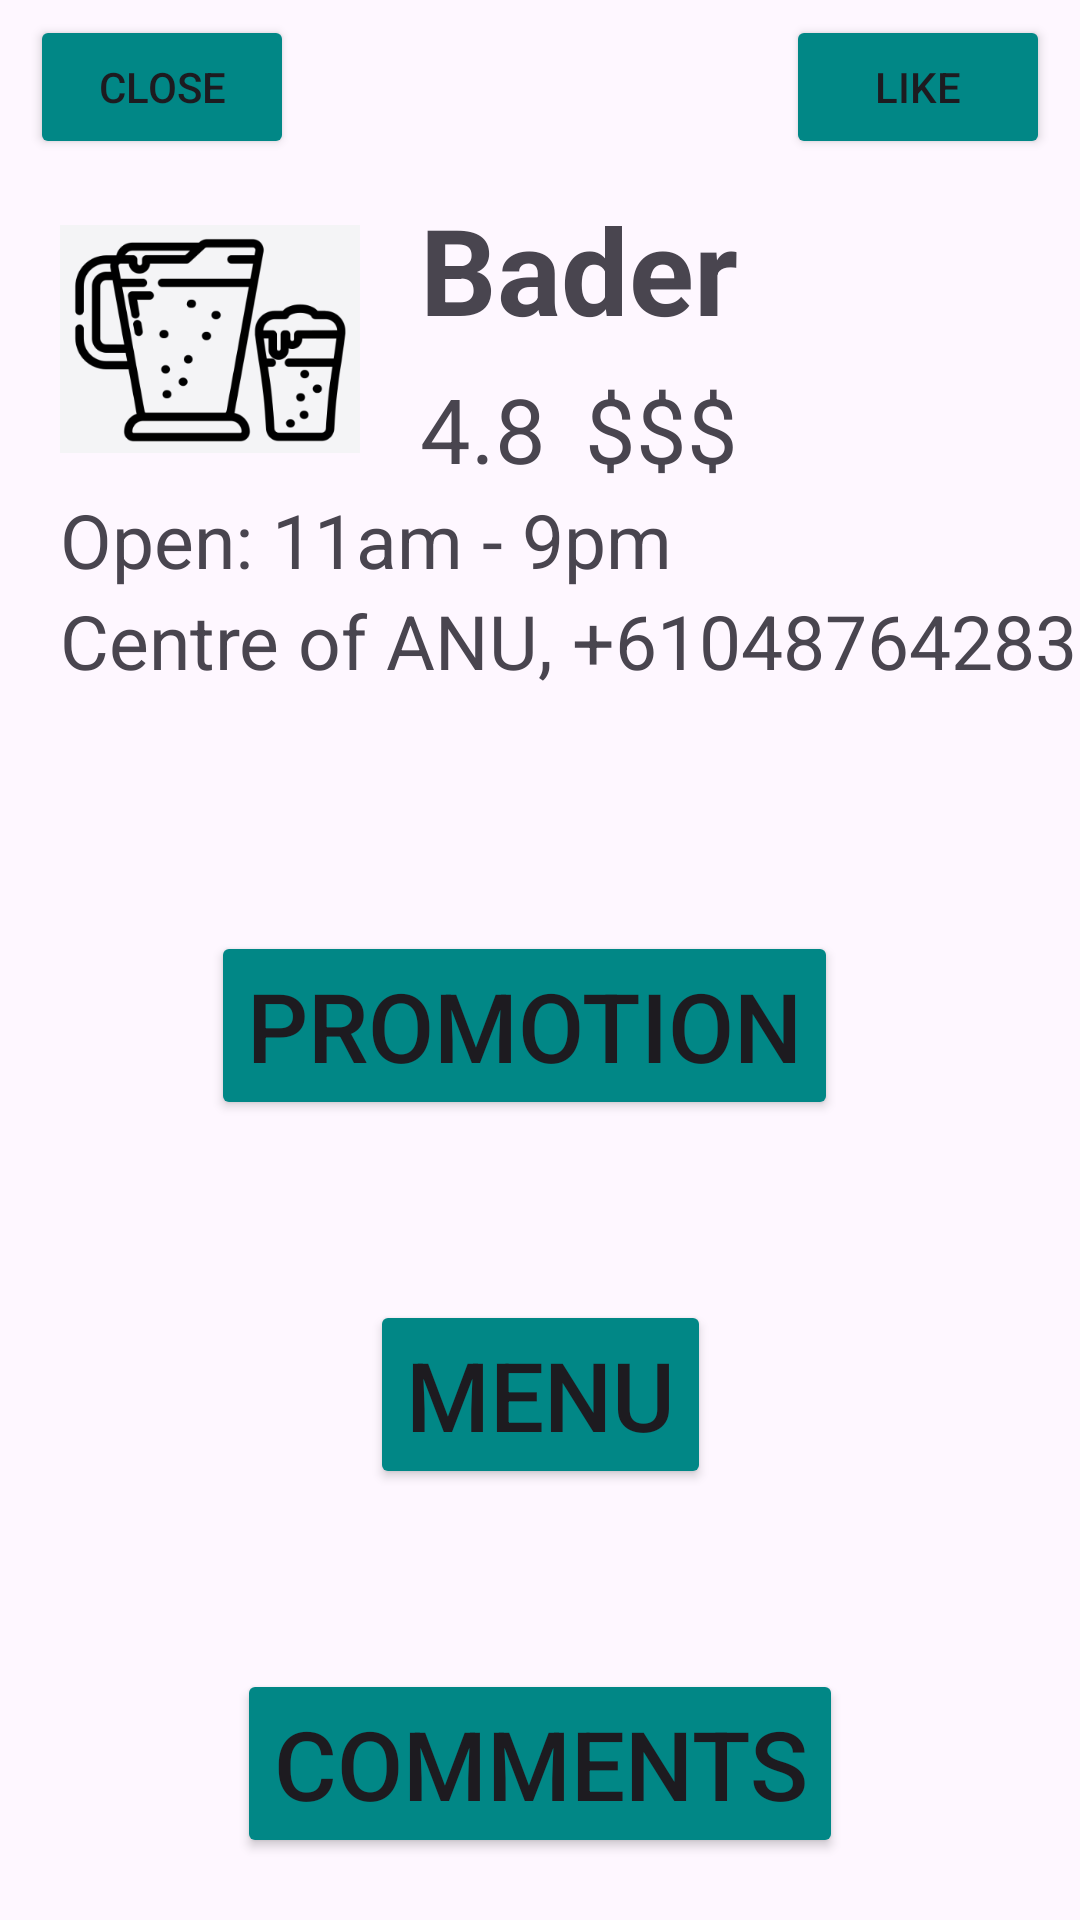

Icons on this 1080 × 1920 Android screen, each with the point to tap as point (x, y):
restaurant: point (210, 339)
